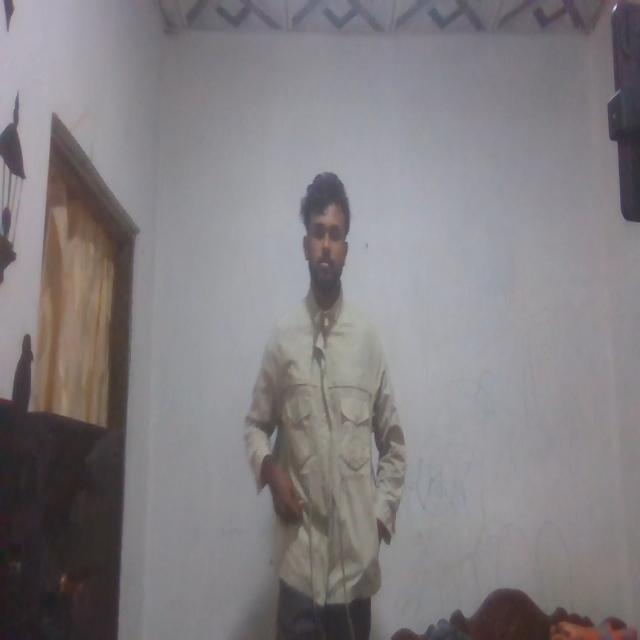Jacket_Wearer: (248, 276, 406, 607)
Person: (230, 155, 413, 640)
